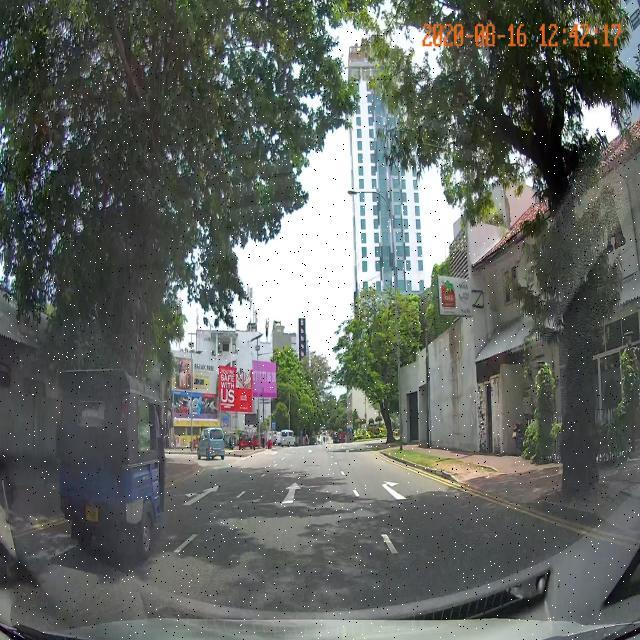forward: (218, 469, 366, 508)
right: (346, 464, 470, 512)
